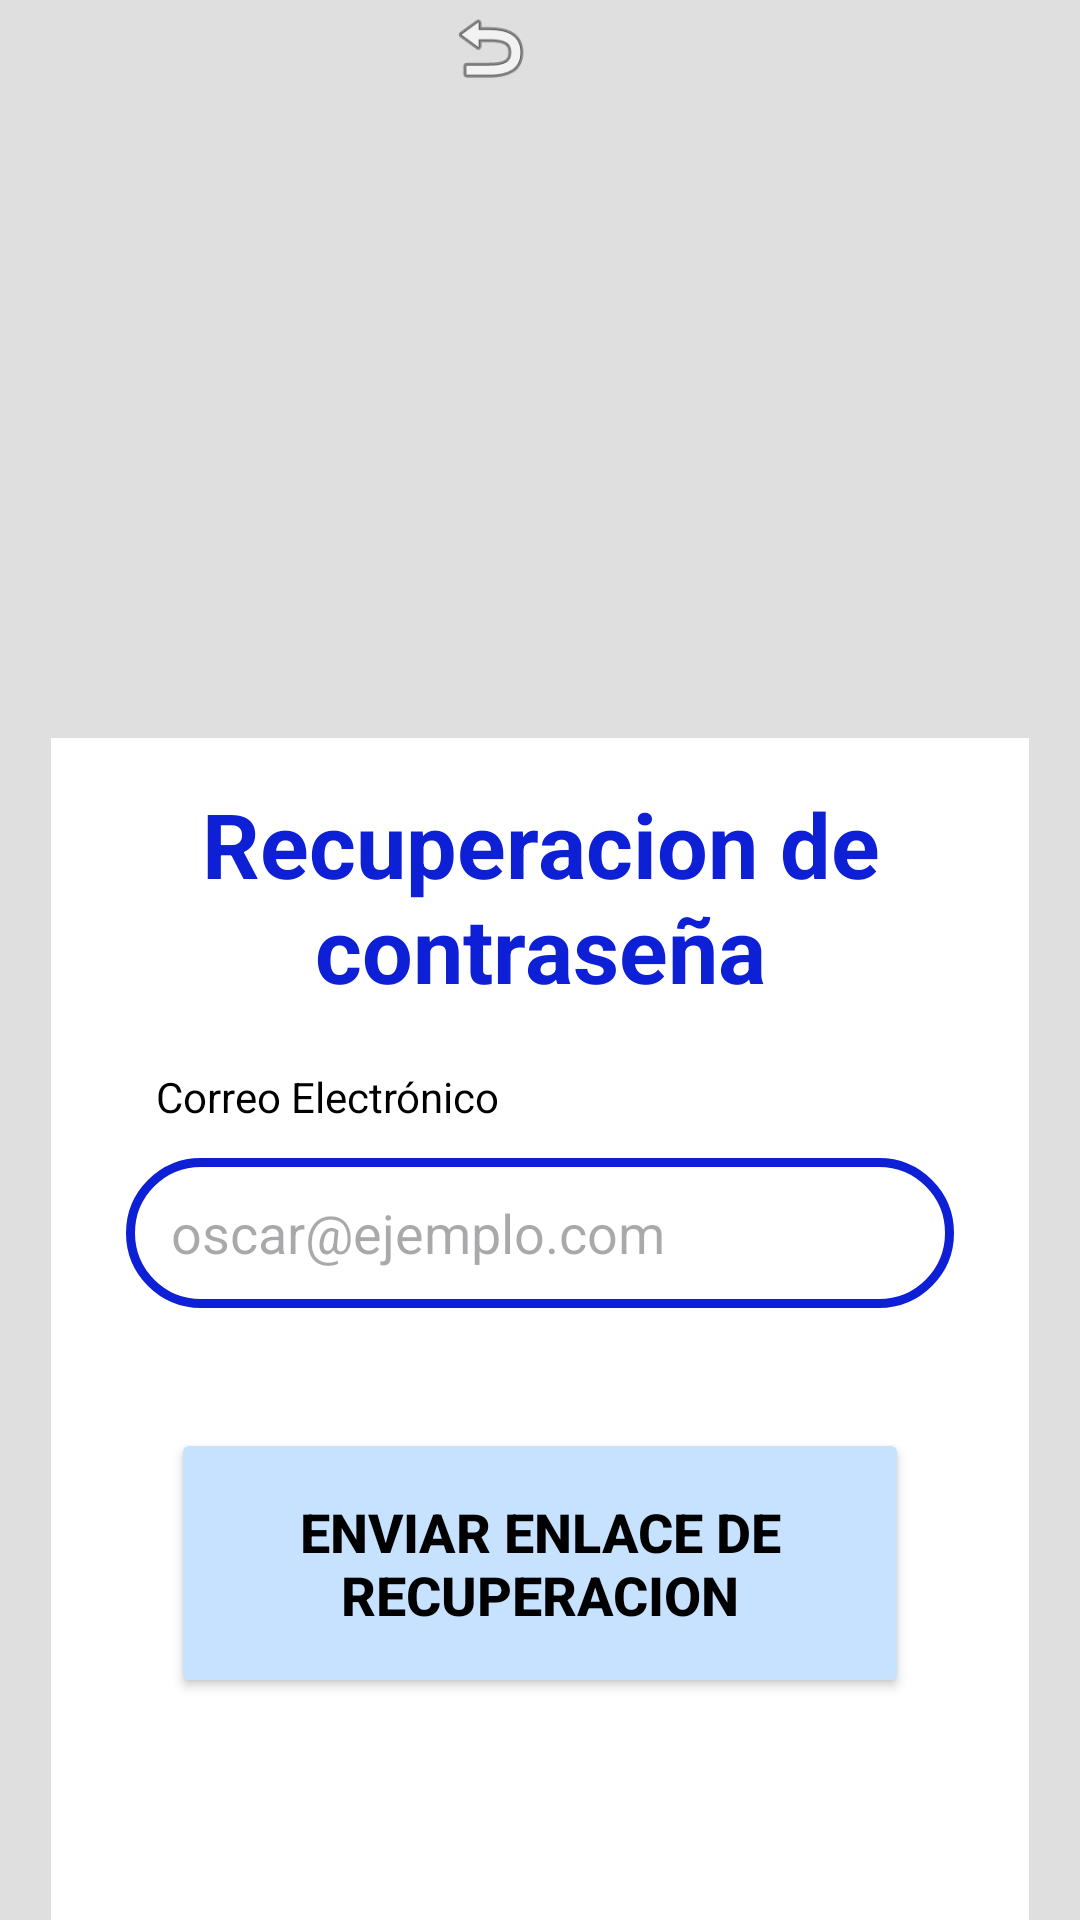

Screen size 1080×1920. Icon name, then its box in pixels as box=[x1, y1, x2, y2]:
revert: box=[459, 19, 524, 78]
